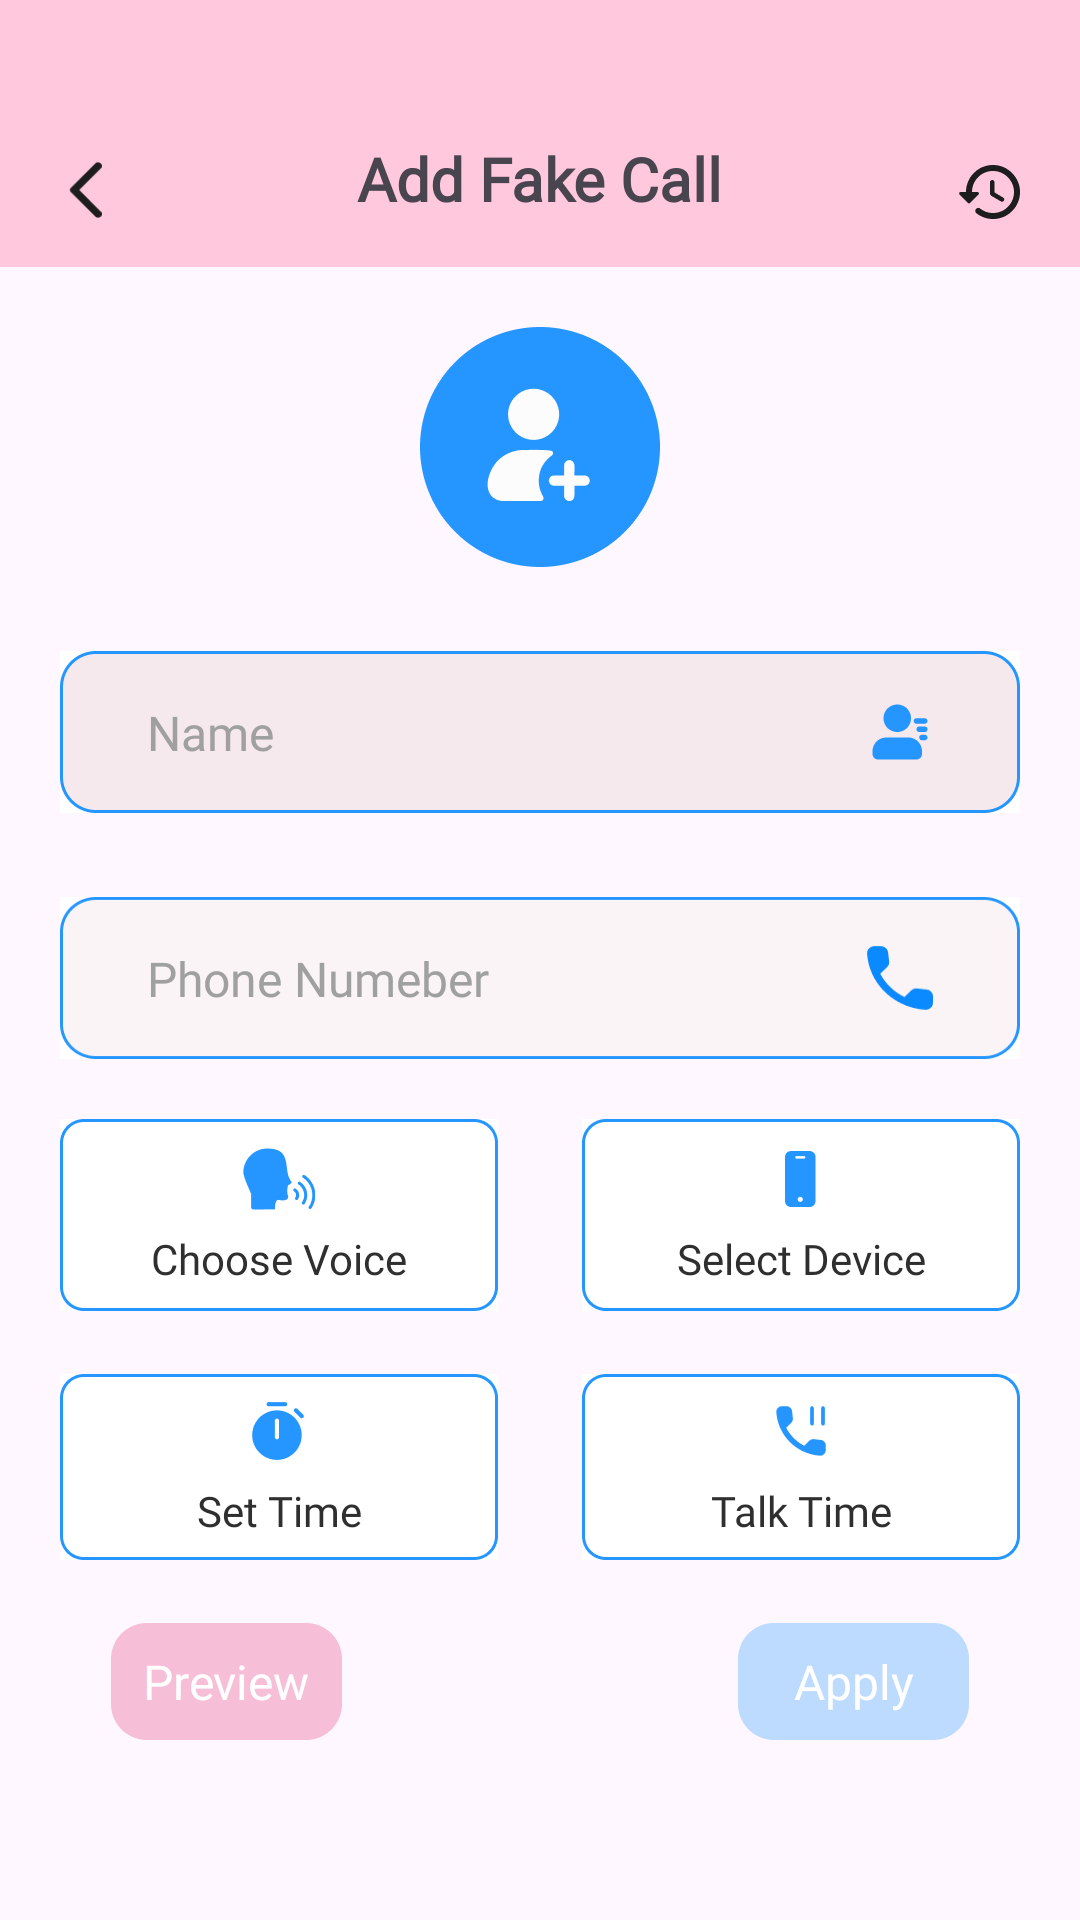

Screen size 1080 x 1920. Icon name, then its center in pixels as (x=x, y=y):
addavatar: (x=540, y=447)
arrowback addfakecall: (x=85, y=190)
history: (x=989, y=192)
